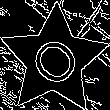O_SE: (22, 27, 86, 93)
